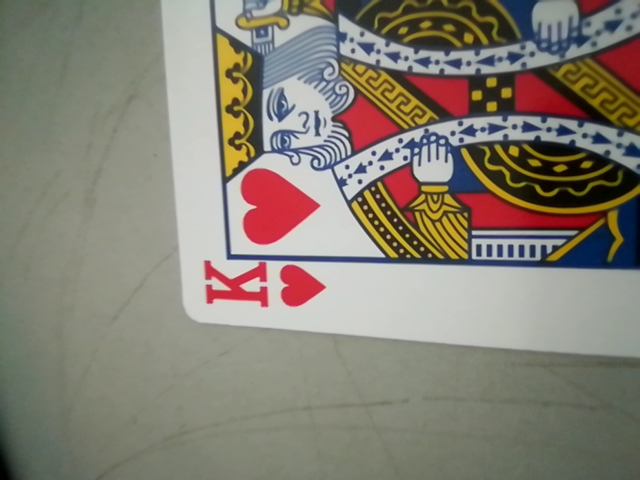hx k: (195, 254, 326, 320)
